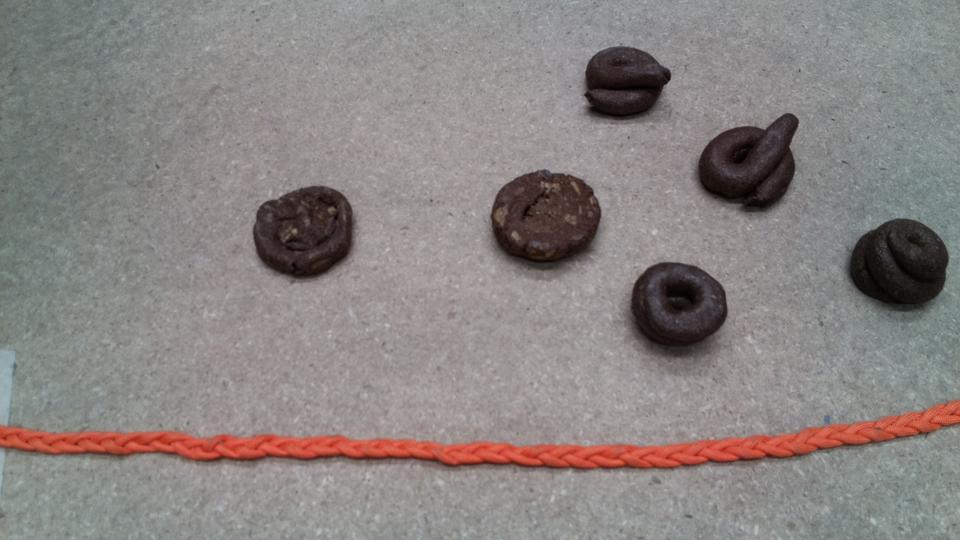poop: (484, 164, 606, 269), (696, 107, 806, 213), (248, 175, 356, 281), (849, 212, 953, 317), (629, 253, 733, 350), (580, 43, 674, 124)
rope: (3, 408, 960, 474)
